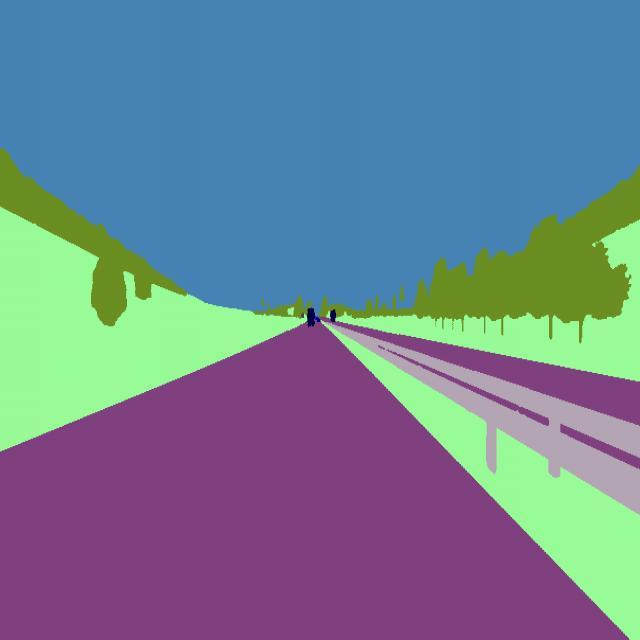safe: (303, 304, 318, 334), (328, 308, 338, 326)
